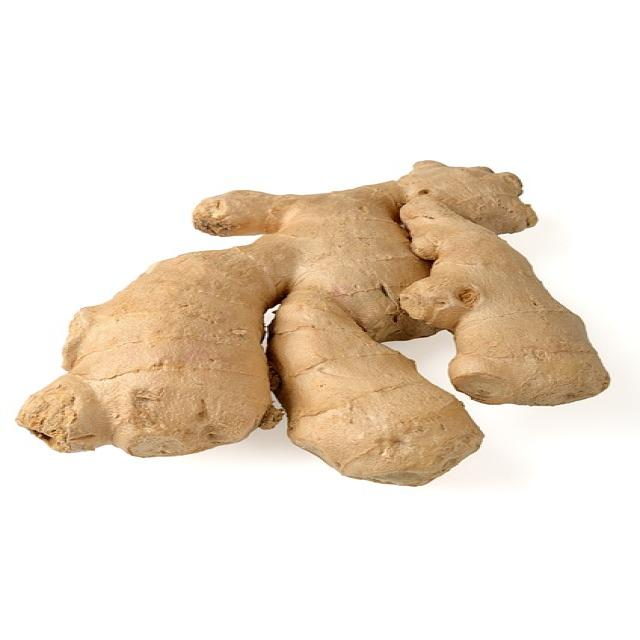ginger-root: (12, 152, 631, 518)
